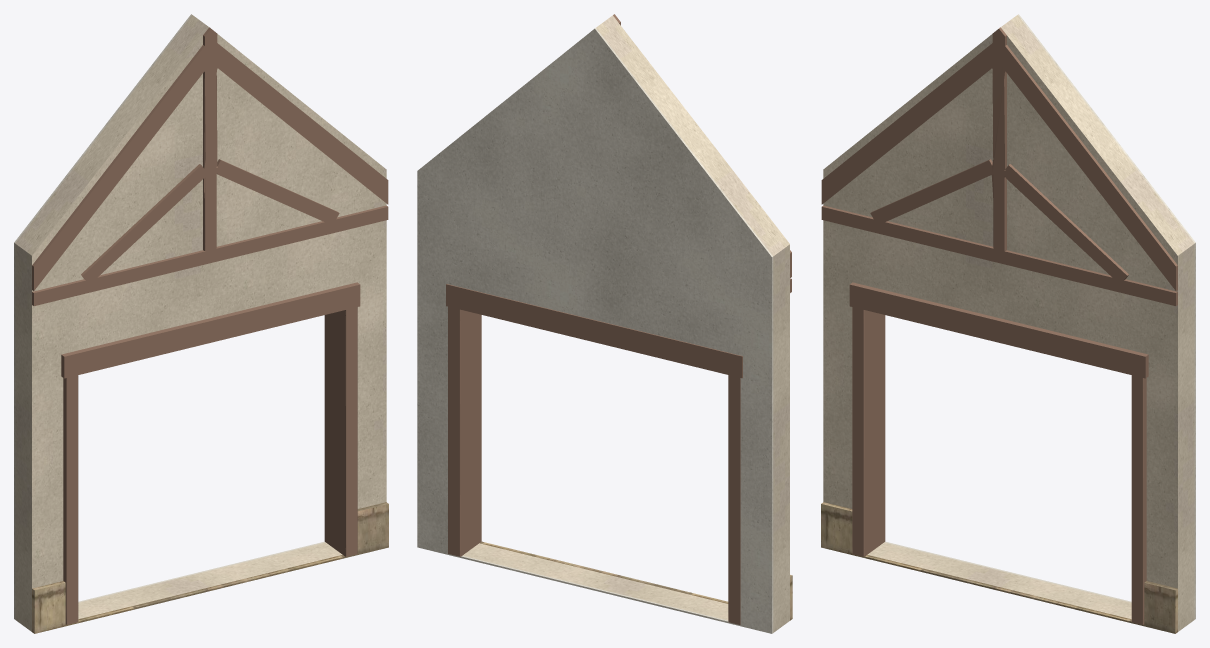
Rendered from garage_gable_front.glb.
3 renders of one model, left to right at view 1: azimuth 30°, elevation 25°; view 2: azimuth 150°, elevation 25°; view 3: azimuth 330°, elevation 25°, orthographic.
Visible parts, largest first — view 1: garage_gable_front_render, garage_gable_front_timber, garage_gable_front_stone2, garage_gable_front_plaster; view 2: garage_gable_front_plaster, garage_gable_front_timber, garage_gable_front_render, garage_gable_front_stone2; view 3: garage_gable_front_render, garage_gable_front_timber, garage_gable_front_stone2, garage_gable_front_plaster.
Boxes of the visible parts, bbox=[...] form: garage_gable_front_render: bbox=[15, 15, 386, 631]; garage_gable_front_timber: bbox=[32, 27, 388, 624]; garage_gable_front_stone2: bbox=[32, 502, 388, 633]; garage_gable_front_plaster: bbox=[14, 14, 325, 619]; garage_gable_front_plaster: bbox=[417, 28, 773, 633]; garage_gable_front_timber: bbox=[446, 14, 791, 624]; garage_gable_front_render: bbox=[463, 15, 789, 632]; garage_gable_front_stone2: bbox=[479, 541, 792, 620]; garage_gable_front_render: bbox=[823, 15, 1194, 631]; garage_gable_front_timber: bbox=[821, 27, 1177, 624]; garage_gable_front_stone2: bbox=[821, 502, 1177, 633]; garage_gable_front_plaster: bbox=[884, 14, 1195, 619].
Bounding box in the file's own units: 3.4 × 5.15 × 0.36.
4 materials, 3 textured.
